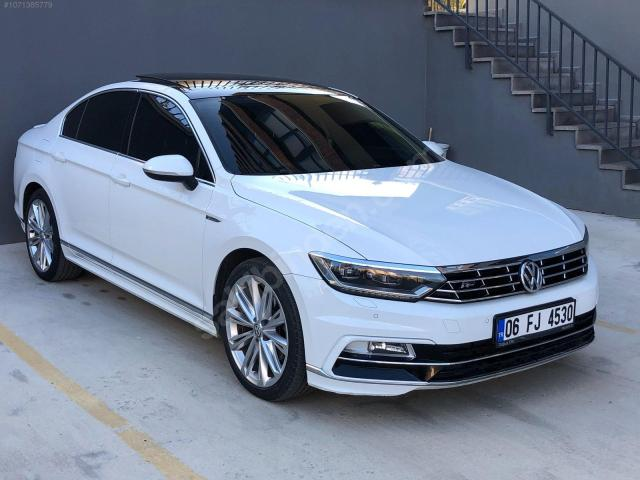plaka: (496, 298, 576, 343)
